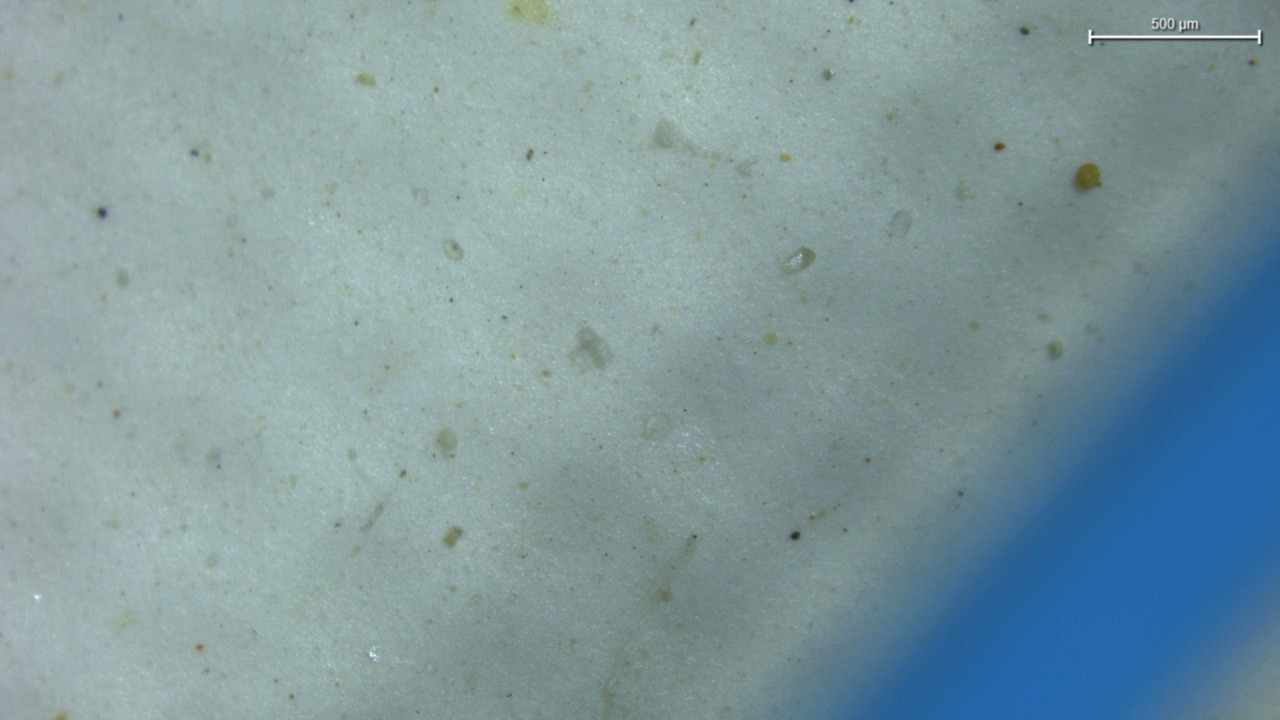microplastic_fragment: (783, 246, 816, 273)
